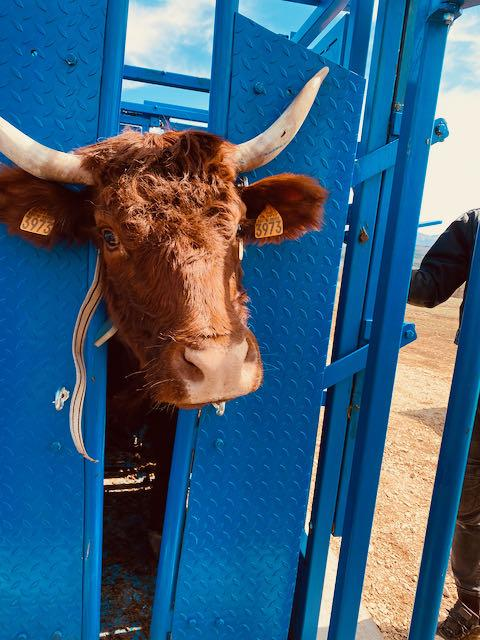muzzles: (156, 335, 263, 410)
